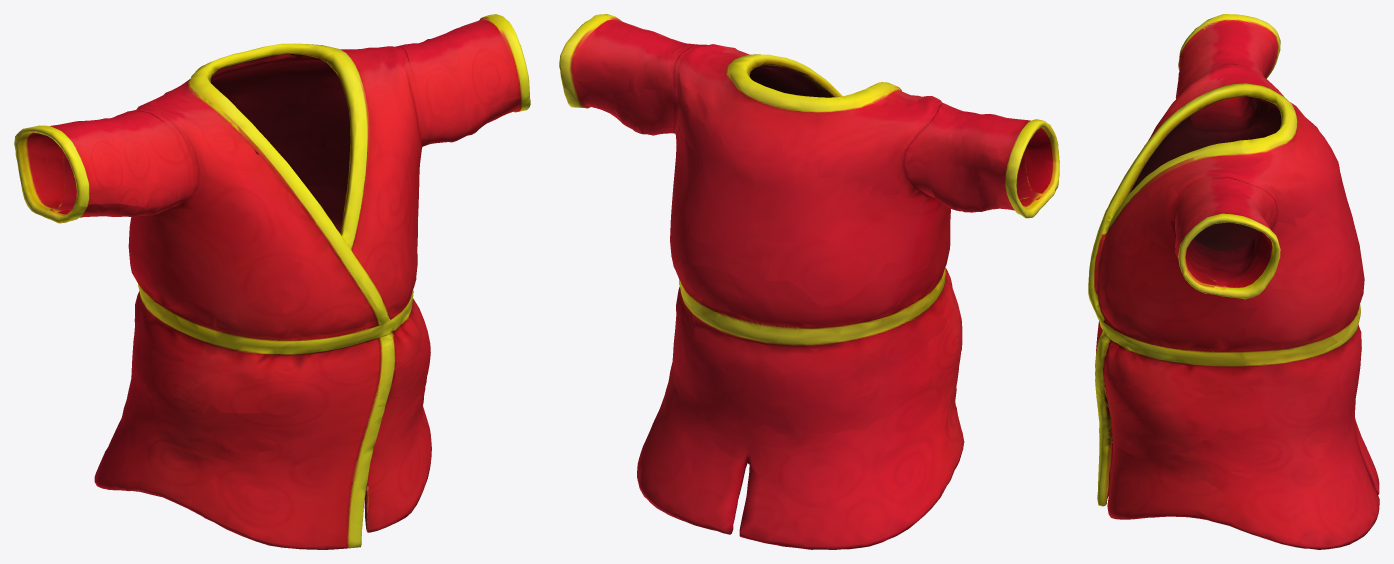
File: Bathrobe.glb
3 renders of one model, left to right at view 1: azimuth 30°, elevation 25°; view 2: azimuth 150°, elevation 25°; view 3: azimuth 270°, elevation 25°, orthographic. The views are drawn at different scales.
Parts seen in each view (by area): view 1: Bathrobe; view 2: Bathrobe; view 3: Bathrobe.
Part boxes in pixels (bbox=[...]): Bathrobe: bbox=[14, 14, 530, 549]; Bathrobe: bbox=[559, 14, 1059, 549]; Bathrobe: bbox=[1088, 14, 1379, 549].
Size of the model in its own units: 0.6616 by 0.5706 by 0.3872.
Materials: 1 (1 with a texture image).
